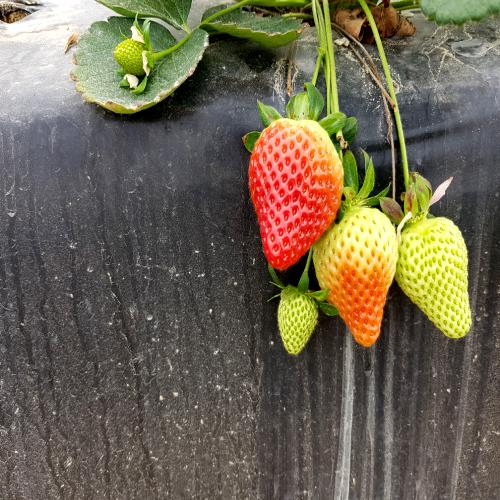ripe: (244, 107, 337, 280)
